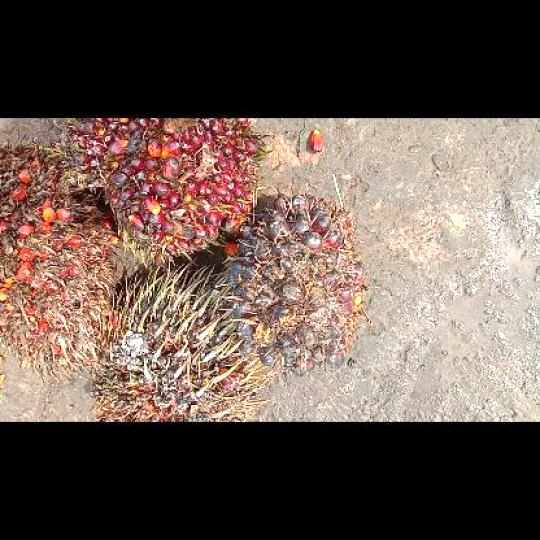masak: (56, 117, 266, 256)
terlalu masak: (0, 141, 119, 375)
